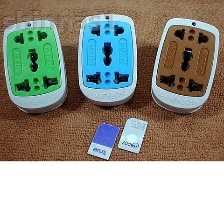three_eye_plug: (147, 12, 223, 116), (1, 17, 70, 116), (73, 8, 140, 109)
